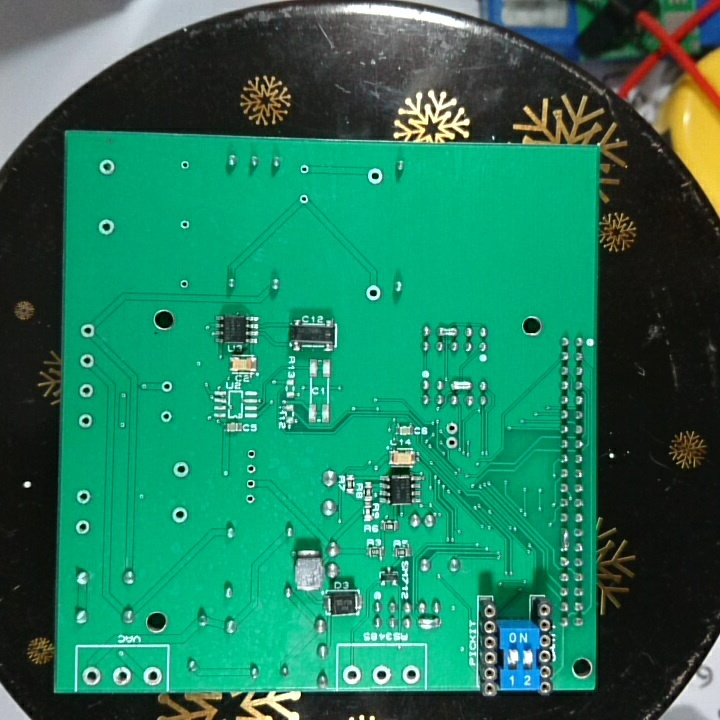F: (140, 664, 164, 689), (370, 662, 393, 685), (111, 663, 133, 687), (401, 661, 422, 686), (341, 663, 363, 686), (81, 664, 102, 686), (365, 166, 385, 189), (364, 281, 383, 305), (171, 458, 191, 480), (169, 506, 190, 526), (78, 321, 97, 342), (77, 352, 96, 371), (97, 158, 115, 178), (77, 382, 95, 400), (75, 486, 92, 505), (97, 218, 114, 236), (443, 420, 461, 437), (74, 518, 90, 537), (442, 434, 461, 450), (159, 379, 175, 397), (177, 216, 192, 234), (176, 276, 192, 292), (242, 492, 258, 507), (243, 460, 259, 475), (77, 412, 93, 426), (297, 162, 311, 178), (244, 476, 257, 492), (243, 447, 259, 460), (159, 408, 172, 424), (178, 157, 191, 172), (297, 191, 308, 206)
P: (414, 615, 444, 630), (450, 376, 472, 393), (435, 323, 459, 338), (558, 525, 571, 552)
